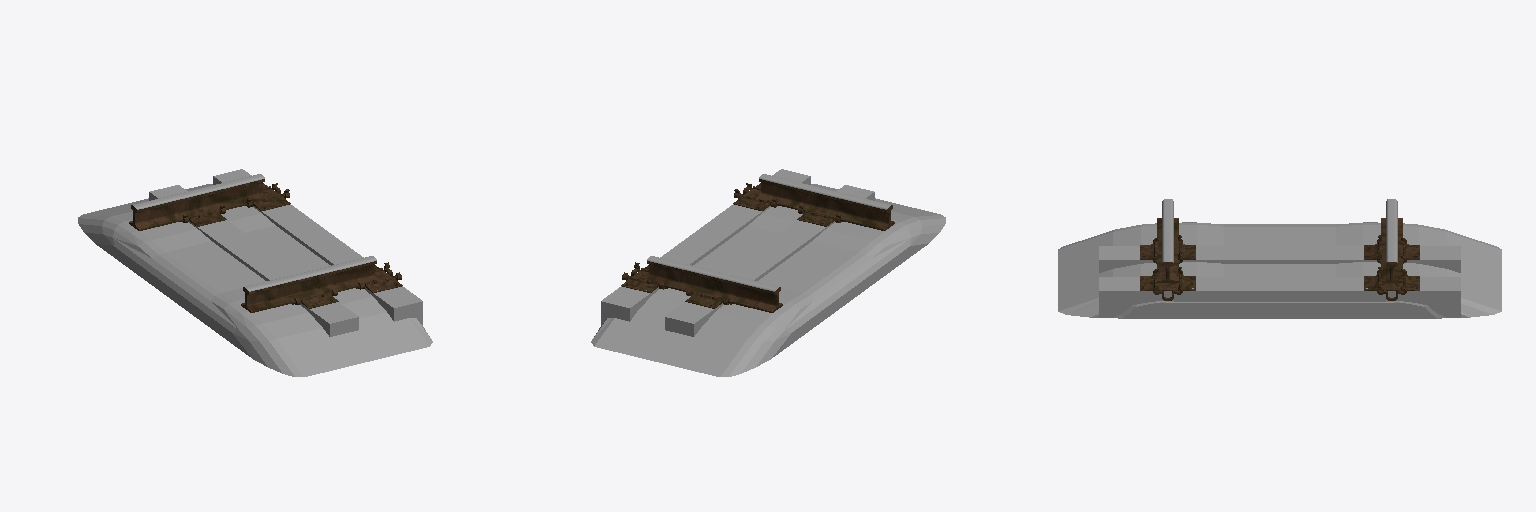
3 views of the same model, side by side, from view 1: azimuth 30°, elevation 25°; view 2: azimuth 150°, elevation 25°; view 3: azimuth 270°, elevation 25° (orthographic).
Visible parts, largest first — view 1: RAIL_BASE.001_Plane.001, RAIL_BASE_Plane, RAIL_LEFT_Cube.002, RAIL_RIGHT_Cube.010; view 2: RAIL_BASE.001_Plane.001, RAIL_BASE_Plane, RAIL_RIGHT_Cube.010, RAIL_LEFT_Cube.002; view 3: RAIL_BASE.001_Plane.001, RAIL_BASE_Plane, RAIL_LEFT_Cube.002, RAIL_RIGHT_Cube.010.
Part boxes in pixels (x1,y1,x2,y2): RAIL_BASE.001_Plane.001: (78,184,432,376); RAIL_BASE_Plane: (149,169,422,336); RAIL_LEFT_Cube.002: (241,256,379,312); RAIL_RIGHT_Cube.010: (129,174,267,230); RAIL_BASE.001_Plane.001: (591,184,945,376); RAIL_BASE_Plane: (601,169,874,336); RAIL_RIGHT_Cube.010: (644,256,782,312); RAIL_LEFT_Cube.002: (756,174,894,230); RAIL_BASE.001_Plane.001: (1058,222,1501,318); RAIL_BASE_Plane: (1099,235,1460,317); RAIL_LEFT_Cube.002: (1157,199,1178,282); RAIL_RIGHT_Cube.010: (1381,199,1402,282).
Bounding box in the file's own units: 1.29 × 0.3683 × 3.
Materials: 6 (1 with a texture image).